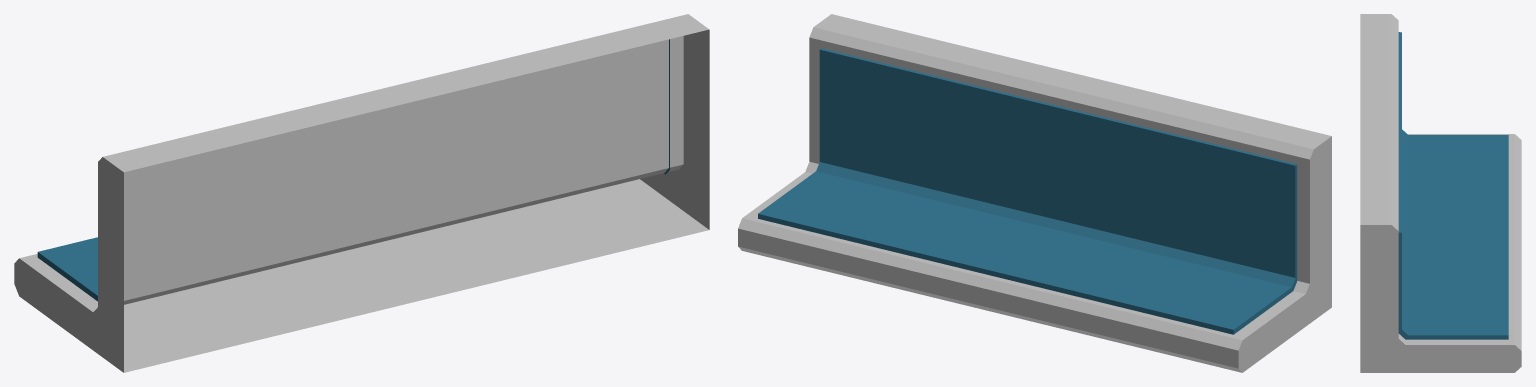
File: Bench 01.FBX
3 renders of one model, left to right at view 1: azimuth 30°, elevation 25°; view 2: azimuth 150°, elevation 25°; view 3: azimuth 270°, elevation 25°, orthographic. The views are drawn at different scales.
Visible parts, largest first — view 1: Bench 01; view 2: Bench 01; view 3: Bench 01.
Boxes of the visible parts, box(x1,y1,x2,y2) form: Bench 01: box(14, 14, 709, 372); Bench 01: box(738, 14, 1331, 372); Bench 01: box(1360, 14, 1521, 372).
Bounding box in the file's own units: 244 × 79.87 × 78.93.
